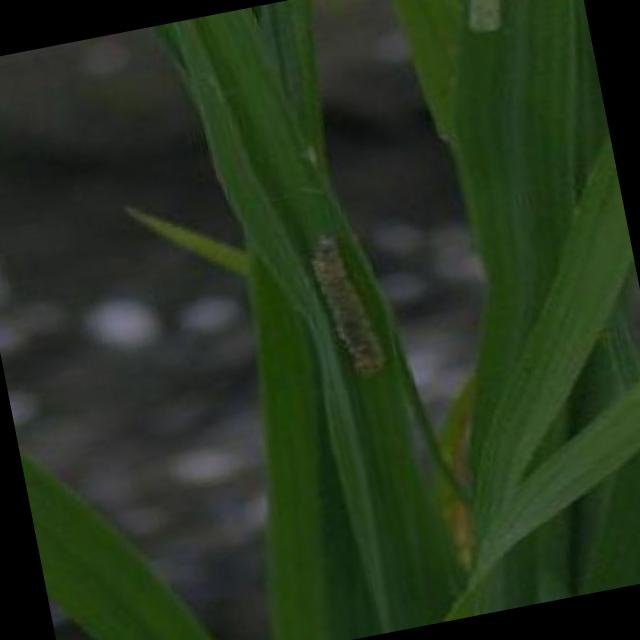leaf-folder: (271, 198, 444, 400)
